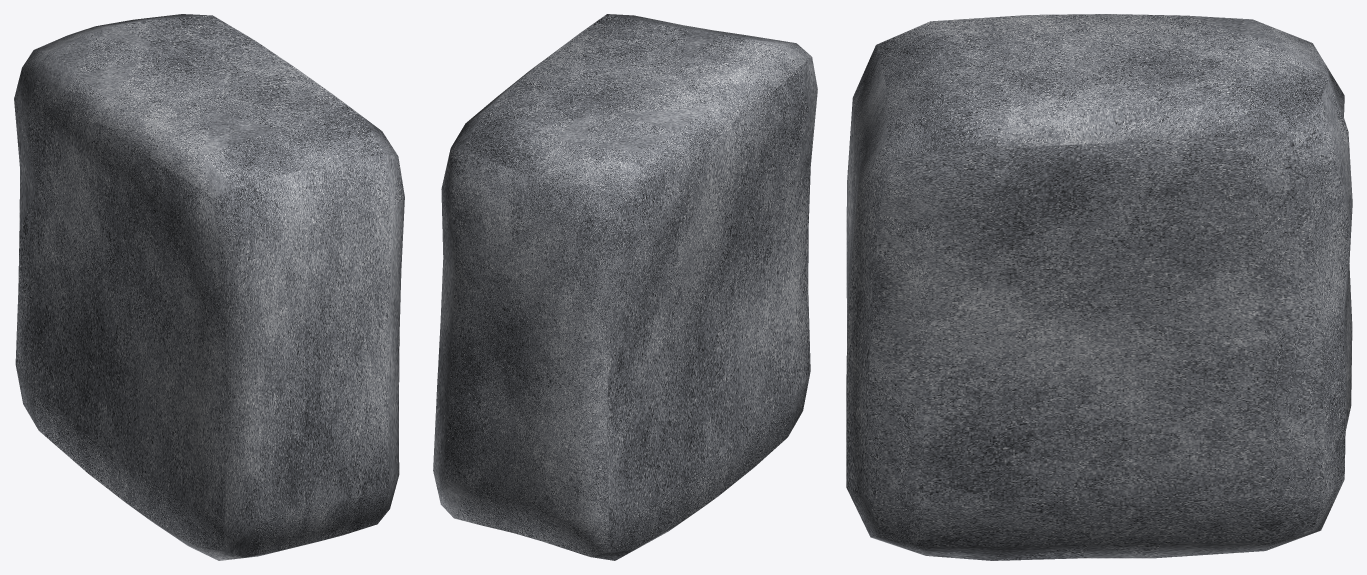
The model's file is RockPlatform1.fbx.
3 views of the same model, side by side, from view 1: azimuth 30°, elevation 25°; view 2: azimuth 150°, elevation 25°; view 3: azimuth 270°, elevation 25° (orthographic). The views are drawn at different scales.
Parts seen in each view (by area): view 1: Cube; view 2: Cube; view 3: Cube.
Part boxes in pixels (x1=…): Cube: x1=14, y1=14, x2=404, y2=560; Cube: x1=433, y1=14, x2=817, y2=560; Cube: x1=846, y1=14, x2=1352, y2=560.
Bounding box in the file's own units: 1133 × 2051 × 1998.
